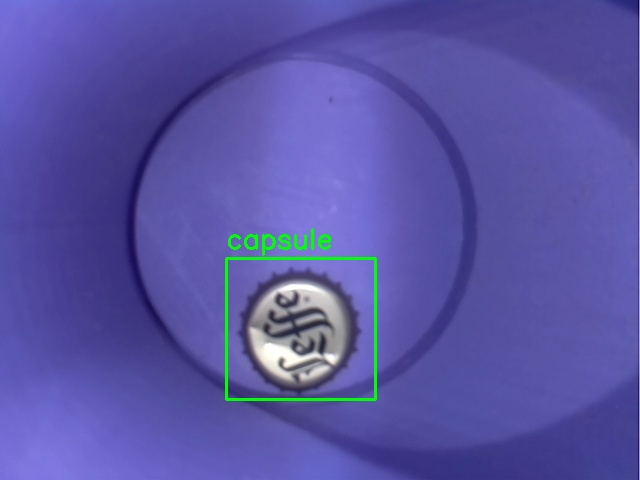capsule: (226, 258, 375, 399)
